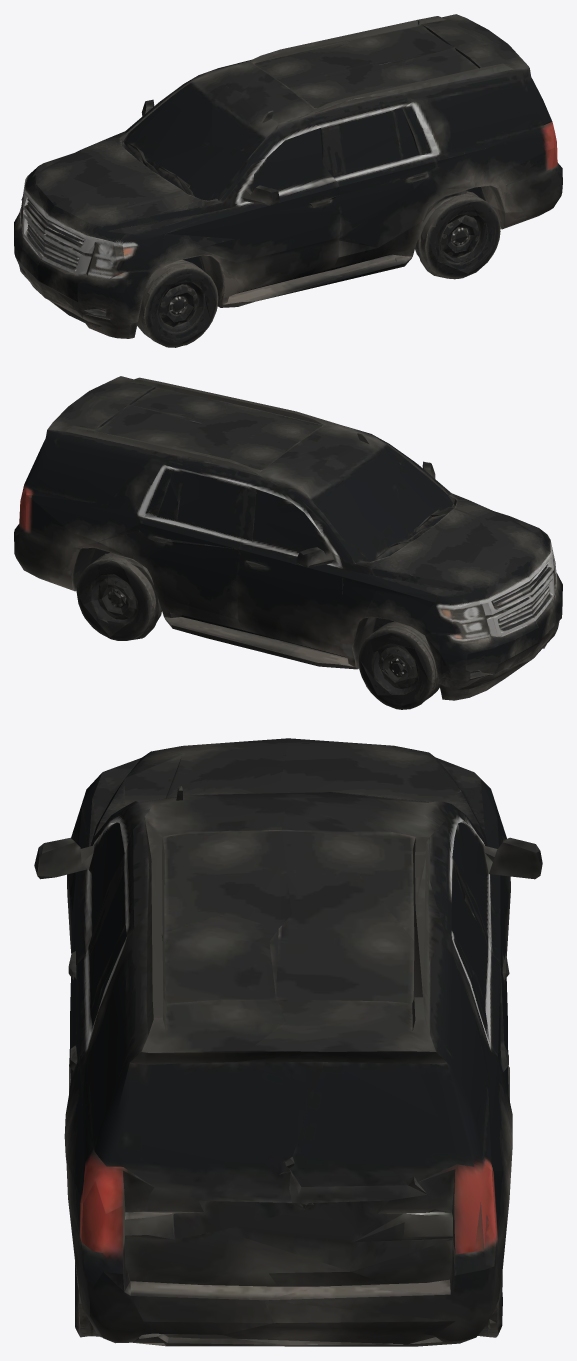
Rendered from suv.glb.
3 renders of one model, top to bottom at view 1: azimuth 30°, elevation 25°; view 2: azimuth 150°, elevation 25°; view 3: azimuth 270°, elevation 25°, orthographic. The views are drawn at different scales.
Visible parts, largest first — view 1: placed; view 2: placed; view 3: placed.
Boxes of the visible parts, bbox=[...] form: placed: bbox=[14, 14, 562, 347]; placed: bbox=[14, 376, 562, 709]; placed: bbox=[34, 738, 542, 1346].
Bounding box in the file's own units: 5 × 1.88 × 2.28.
Materials: 1 (1 with a texture image).
